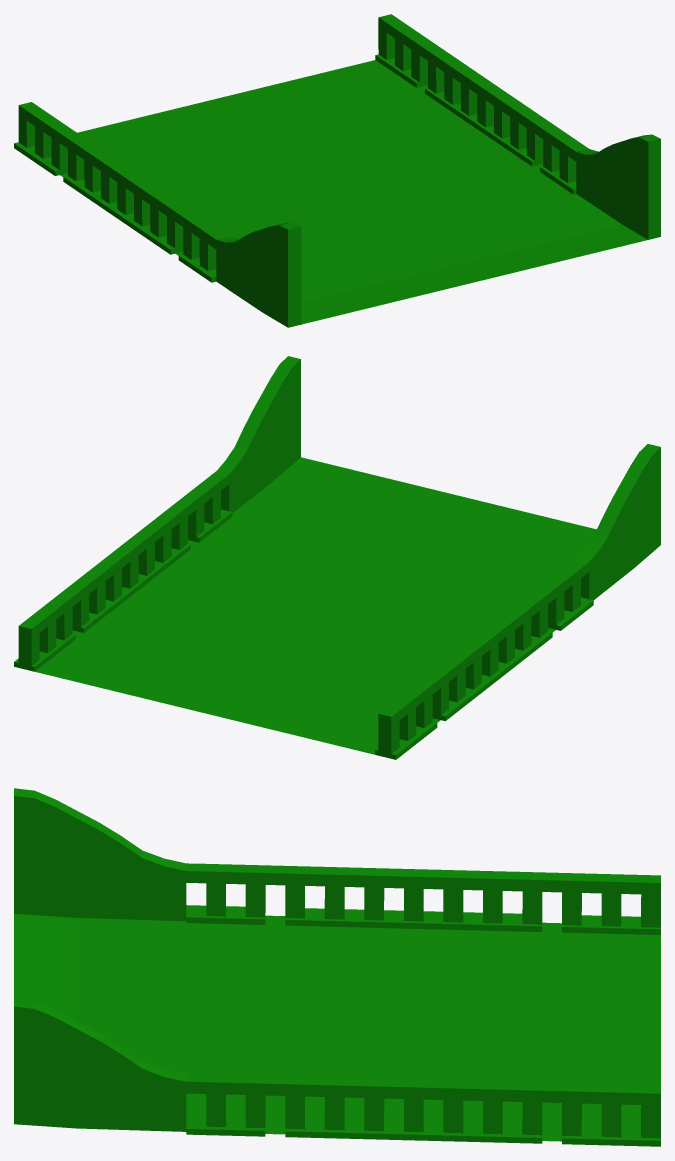
The model's file is Verde3.fbx.
3 renders of one model, top to bottom at view 1: azimuth 30°, elevation 25°; view 2: azimuth 150°, elevation 25°; view 3: azimuth 270°, elevation 25°, orthographic. The views are drawn at different scales.
Visible parts, largest first — view 1: CubiertaFrontal_Rojo; view 2: CubiertaFrontal_Rojo; view 3: CubiertaFrontal_Rojo.
Part boxes in pixels (box(x1,y1,x2,y2)): CubiertaFrontal_Rojo: box(14, 14, 660, 327); CubiertaFrontal_Rojo: box(14, 356, 660, 759); CubiertaFrontal_Rojo: box(14, 788, 660, 1146).
Bounding box in the file's own units: 2.15 × 0.6172 × 2.63.
